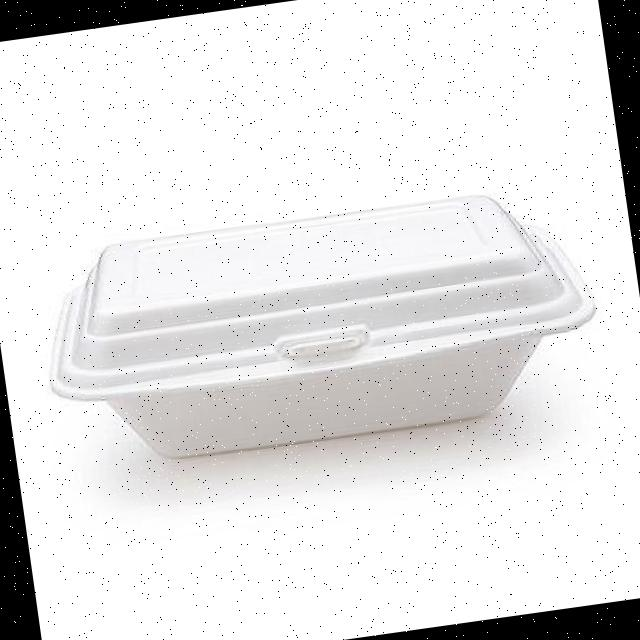styrofoam: (29, 174, 610, 479)
